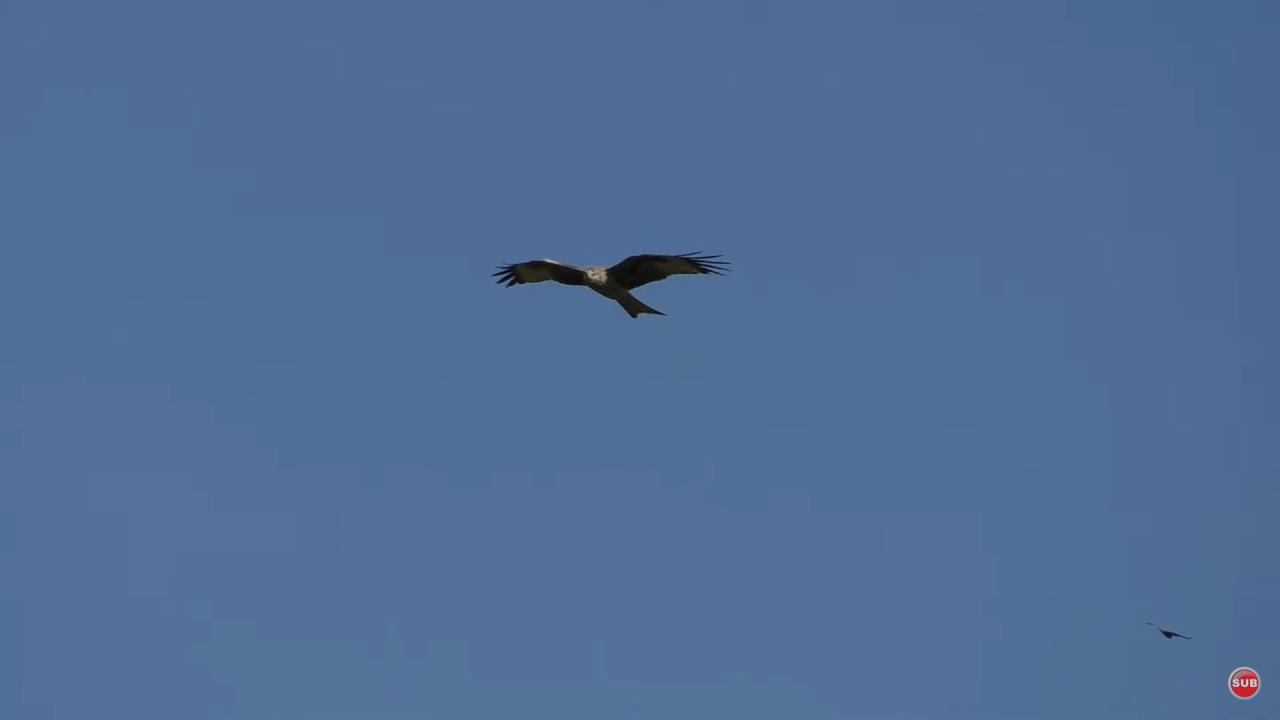Bird: (478, 230, 744, 336)
